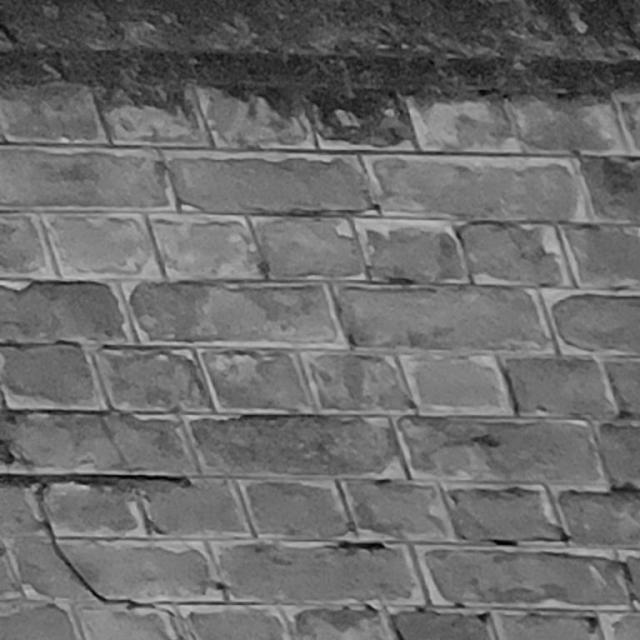crack: (1, 472, 191, 640)
